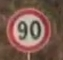limite 90: (4, 6, 54, 53)
